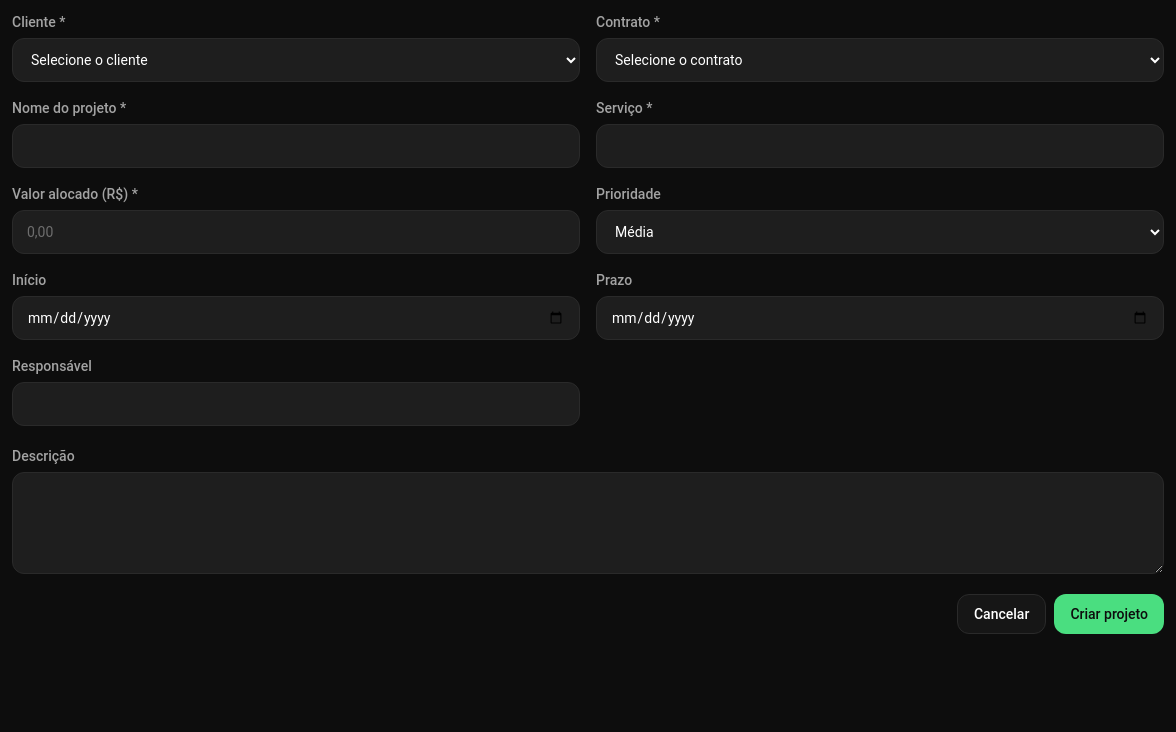
Test: ProjectForm › exige cliente, contrato e nome
Expected: the dropdown labelled "Cliente *" is shown, [12,38,580,82]
Click the button "Criar projeto".
click(1109, 614)  # box [1054,594,1164,634]
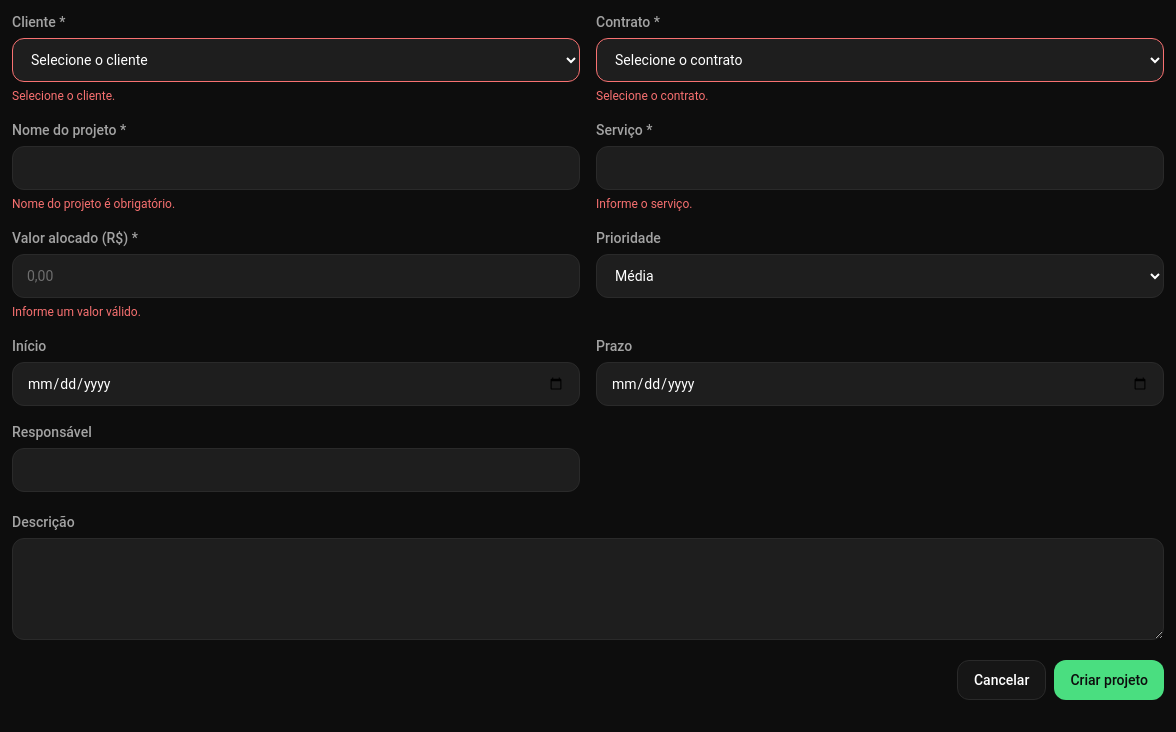
Result: the text "Selecione o cliente." is shown at [12,89,115,103]
Result: the text "Selecione o contrato." is shown at [596,89,708,103]
Result: the text "Nome do projeto é obrigatório." is shown at [12,197,175,211]
